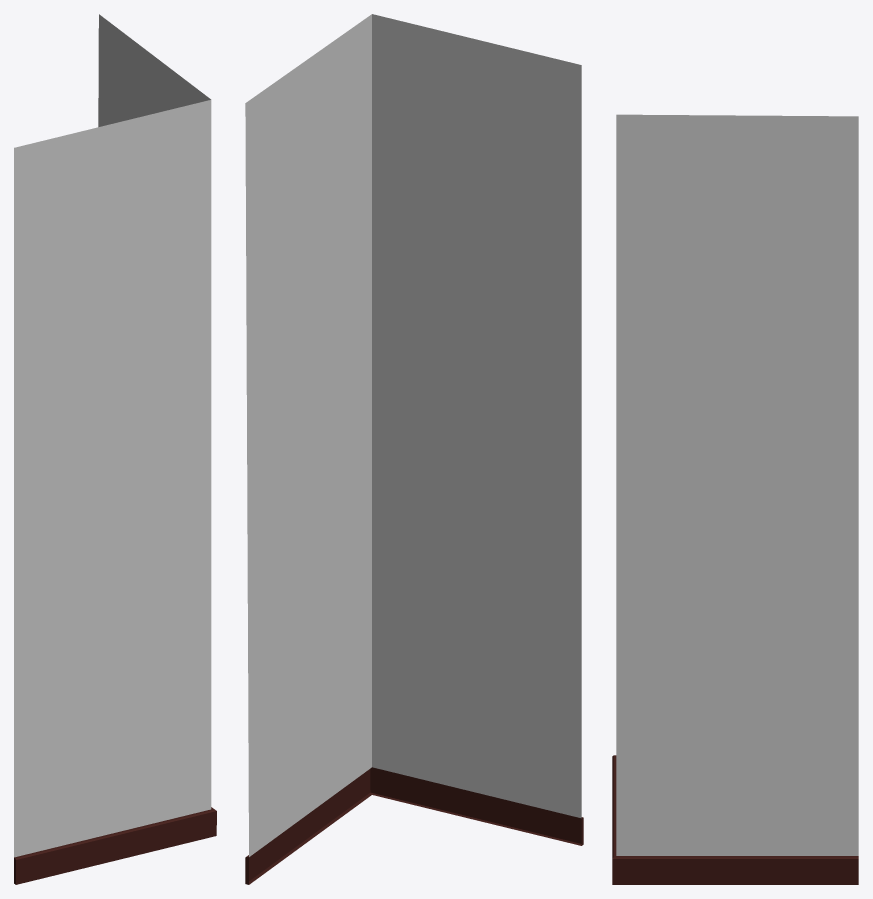
File: Hallway_Wall.018.fbx
3 views of the same model, side by side, from view 1: azimuth 30°, elevation 25°; view 2: azimuth 150°, elevation 25°; view 3: azimuth 270°, elevation 25° (orthographic). The views are drawn at different scales.
Parts seen in each view (by area): view 1: Hallway_Wall.018; view 2: Hallway_Wall.018; view 3: Hallway_Wall.018.
Boxes of the visible parts, x1,y1,x2,y2 form: Hallway_Wall.018: (14,14,216,884); Hallway_Wall.018: (245,14,583,884); Hallway_Wall.018: (612,114,858,884).
Size of the model in its own units: 78.56 by 275 by 79.82.
